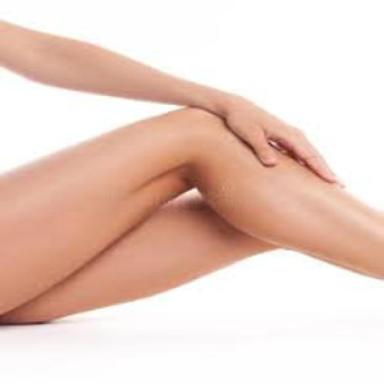normal skin: (0, 22, 384, 324)
